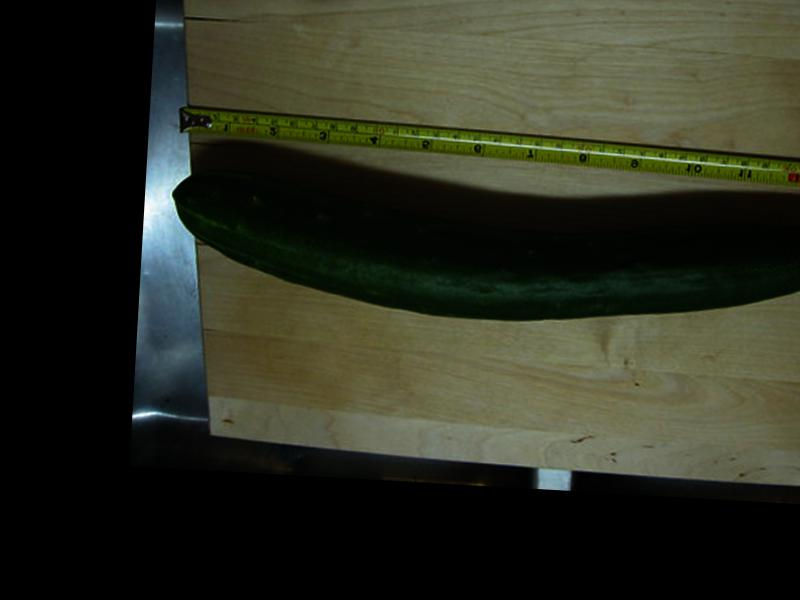Cucumber: (166, 166, 800, 340)
